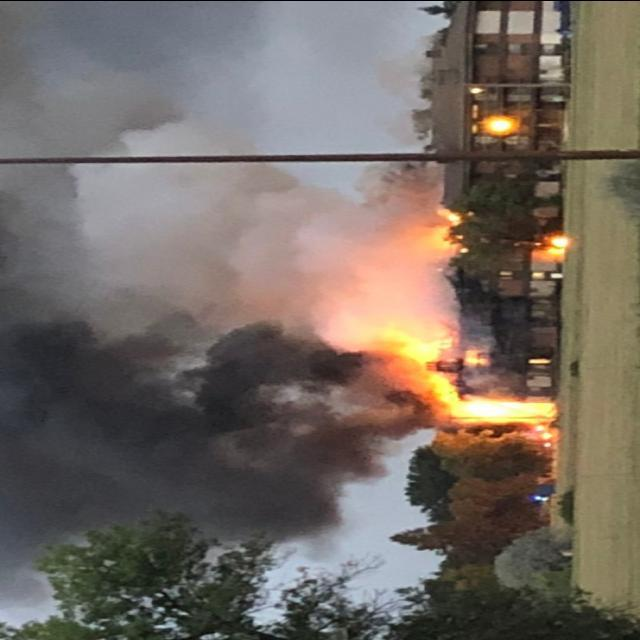Fire: (348, 321, 560, 455), (414, 204, 582, 266)
